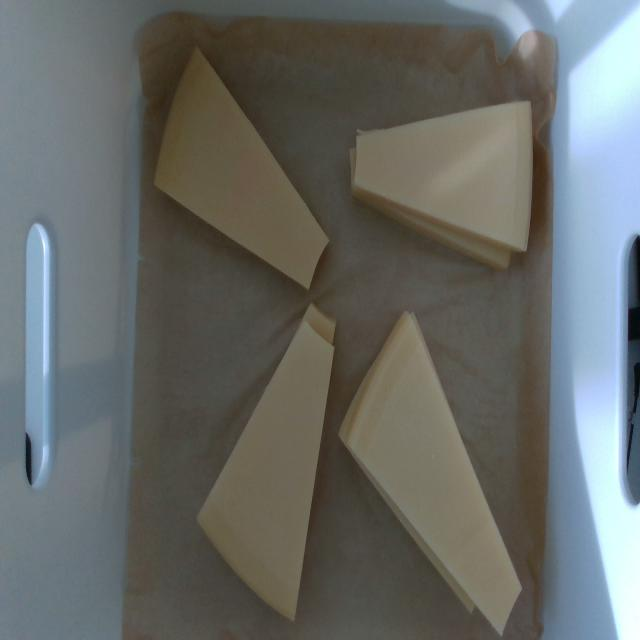cheese: (346, 316, 521, 633), (155, 50, 328, 288), (198, 317, 334, 619), (354, 101, 532, 253)
